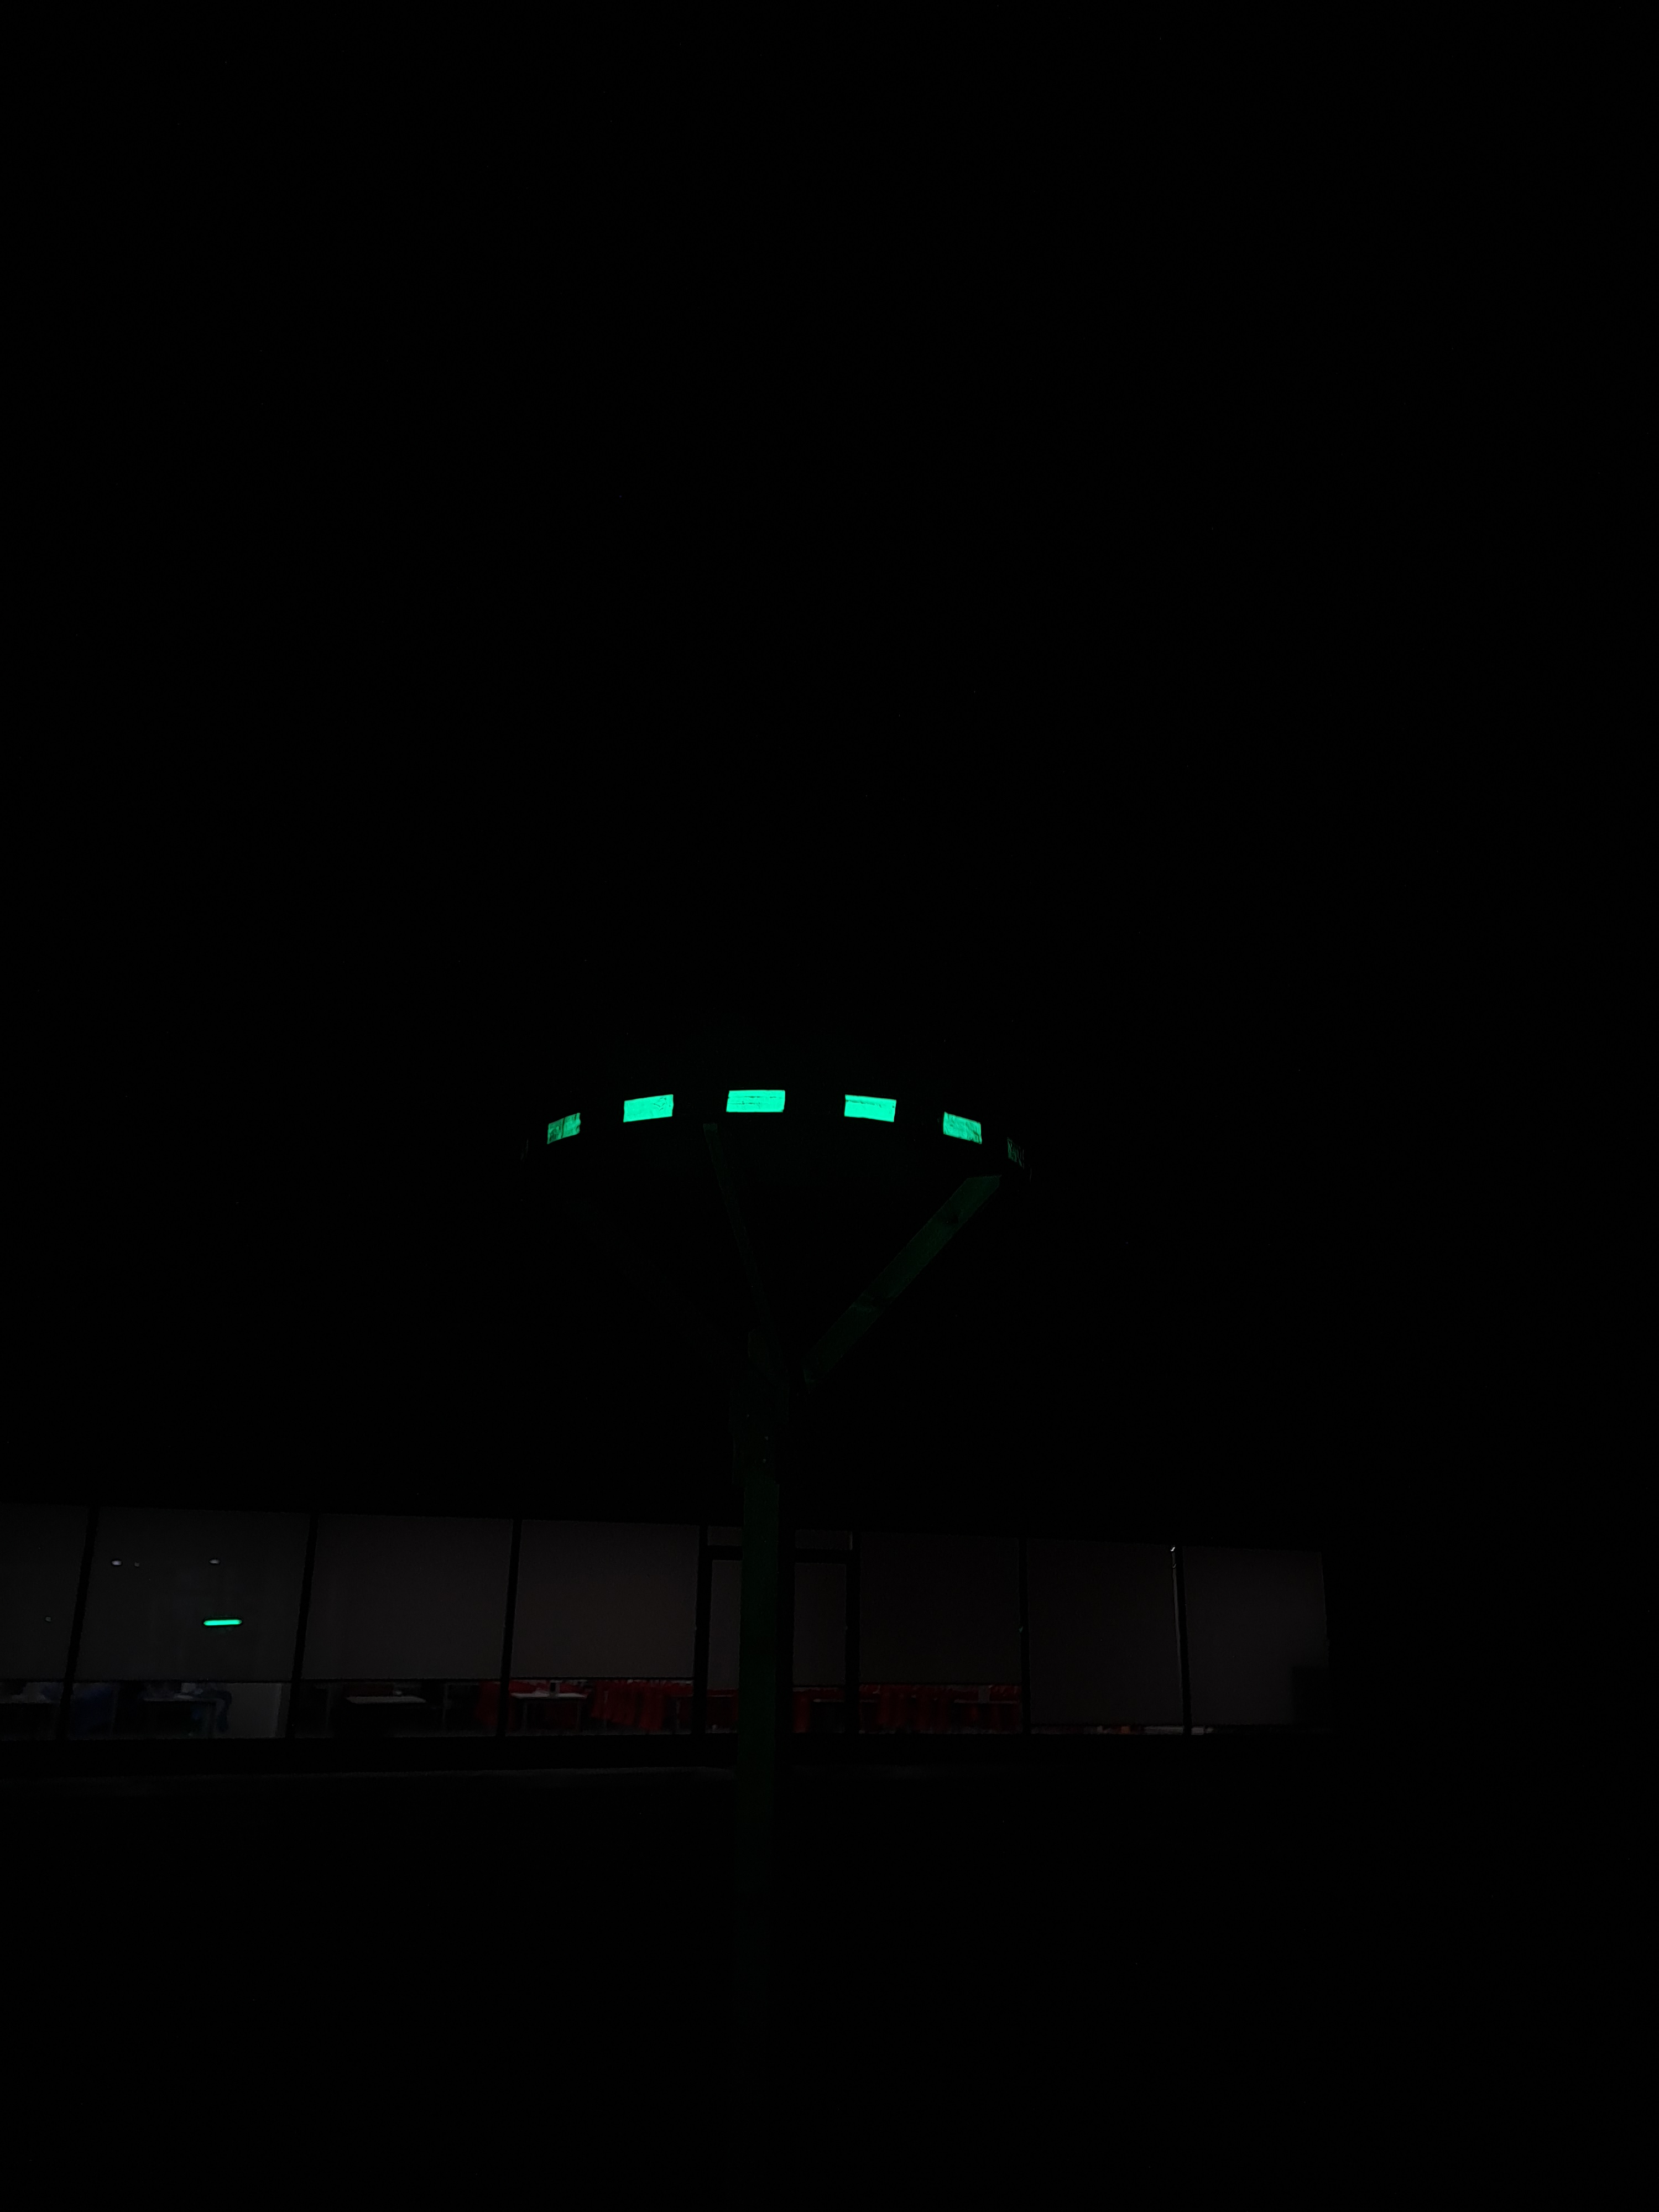hoop: (540, 1076, 993, 1160)
